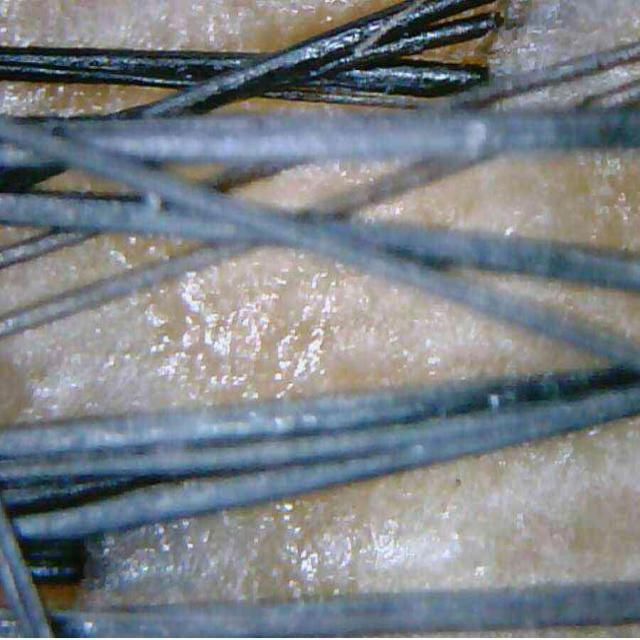o: (100, 492, 415, 619), (152, 246, 347, 405), (5, 3, 363, 51), (28, 310, 158, 415), (563, 148, 639, 254), (352, 200, 411, 226)
